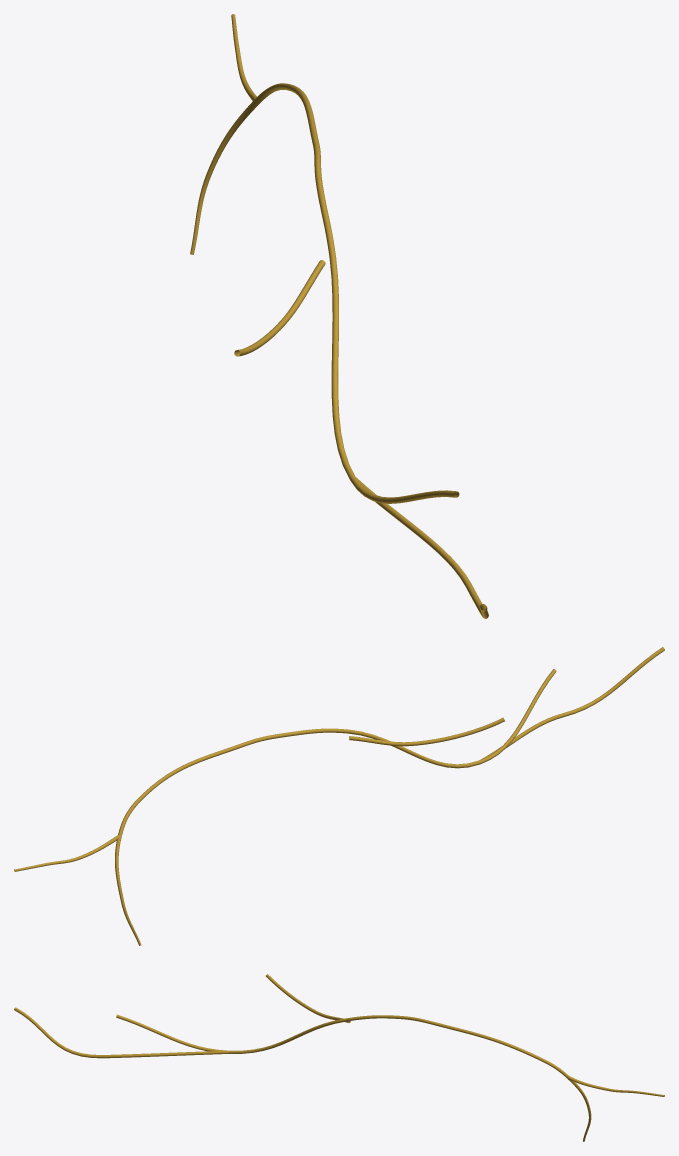
3 renders of one model, top to bottom at view 1: azimuth 30°, elevation 25°; view 2: azimuth 150°, elevation 25°; view 3: azimuth 270°, elevation 25°, orthographic. The views are drawn at different scales.
Visible parts, largest first — view 1: 左侧股方肌神经; view 2: 左侧股方肌神经; view 3: 左侧股方肌神经.
Boxes of the visible parts, x1,y1,x2,y2 form: 左侧股方肌神经: (190,14,488,618); 左侧股方肌神经: (14,647,664,945); 左侧股方肌神经: (14,974,664,1141).
Size of the model in its own units: 0.1034 by 0.0558 by 0.2895.
